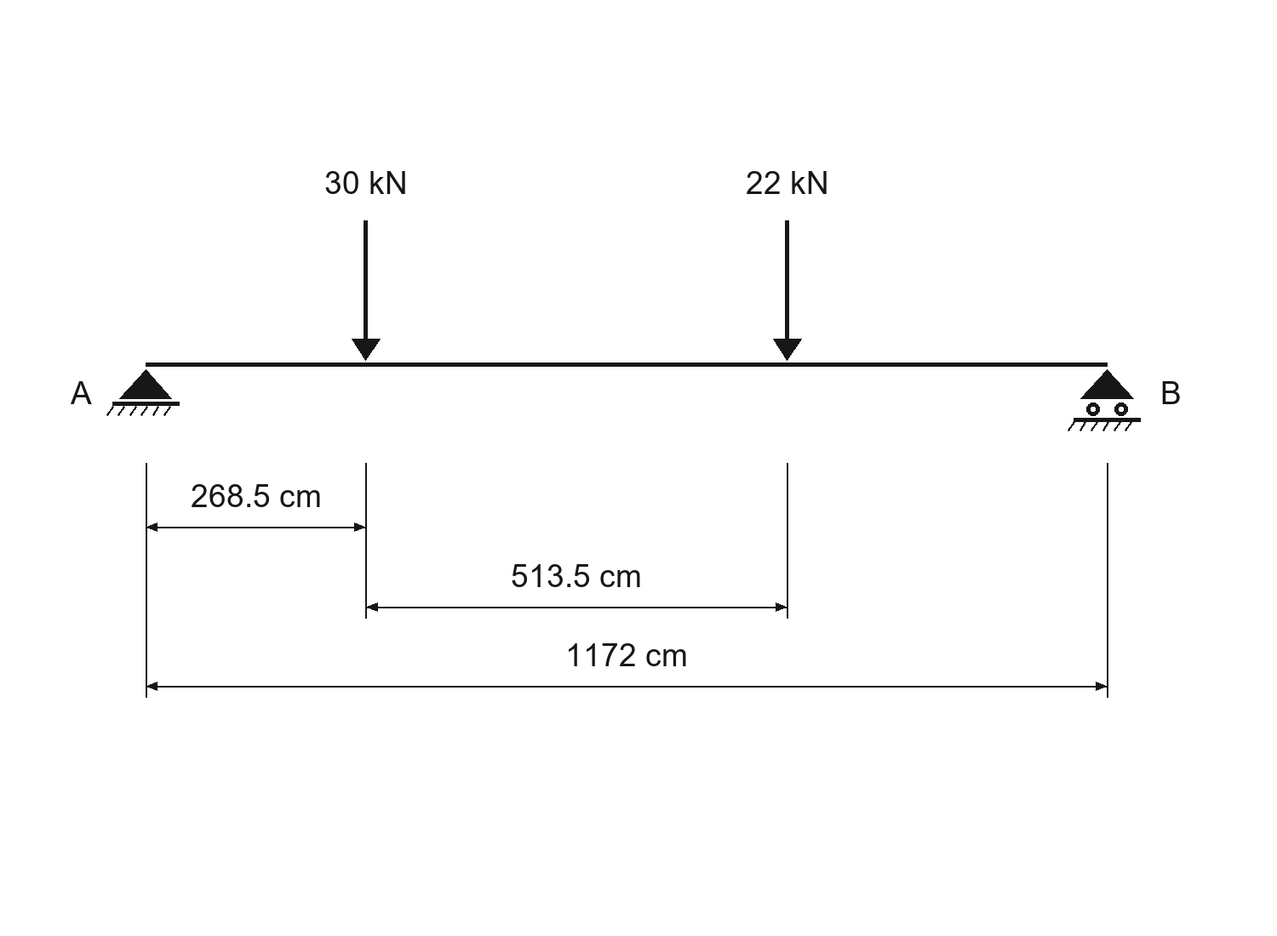pin_support: (106, 369, 180, 416)
point_load: (352, 220, 381, 361), (773, 220, 802, 361)
roller_support: (1068, 369, 1141, 431)
